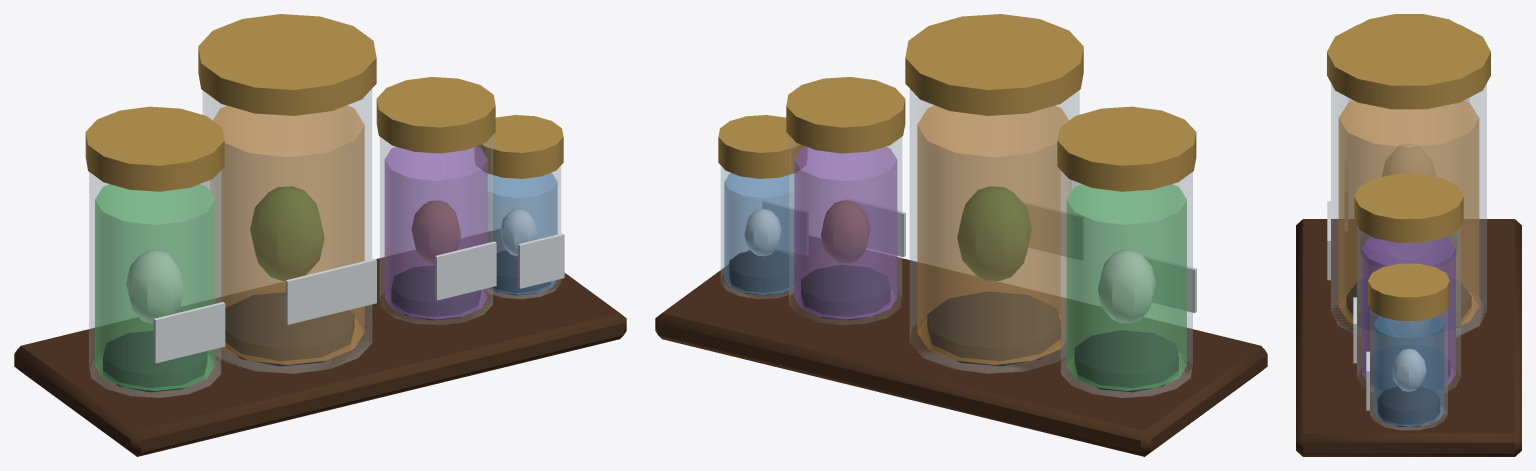
File: specimen_specimen_jar_set.glb
3 views of the same model, side by side, from view 1: azimuth 30°, elevation 25°; view 2: azimuth 150°, elevation 25°; view 3: azimuth 270°, elevation 25° (orthographic). The views are drawn at different scales.
Visible parts, largest first — view 1: specimen_specimen_jar_set; view 2: specimen_specimen_jar_set; view 3: specimen_specimen_jar_set.
Boxes of the visible parts, x1,y1,x2,y2 form: specimen_specimen_jar_set: [14, 14, 626, 456]; specimen_specimen_jar_set: [655, 14, 1267, 456]; specimen_specimen_jar_set: [1296, 14, 1521, 456].
Bounding box in the file's own units: 0.6 × 0.36 × 0.26.
